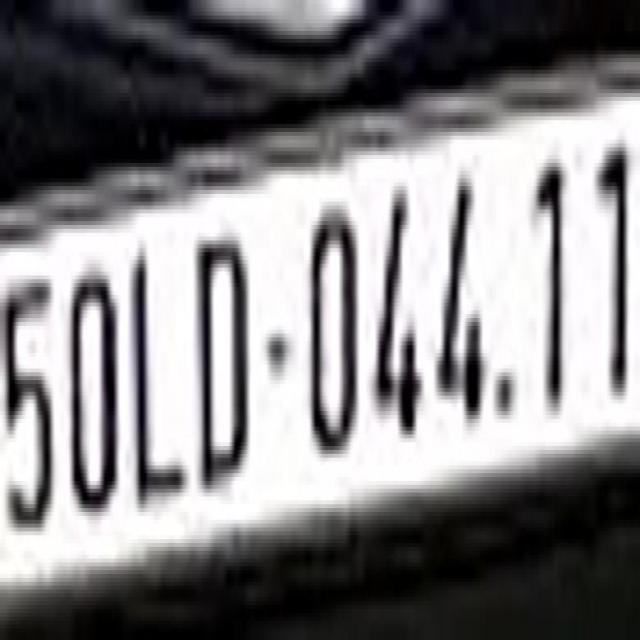0: (304, 198, 360, 465), (72, 256, 120, 520)
1: (597, 148, 635, 400), (532, 159, 568, 415)
4: (435, 152, 486, 434), (376, 159, 423, 465)
5: (5, 272, 56, 543)
D: (196, 229, 248, 496)
L: (129, 248, 187, 493)
